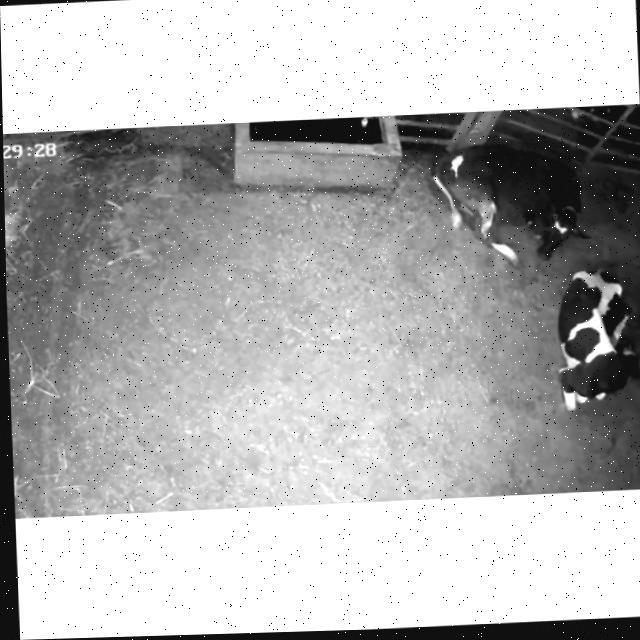lay: (415, 128, 604, 278), (547, 252, 640, 430)
